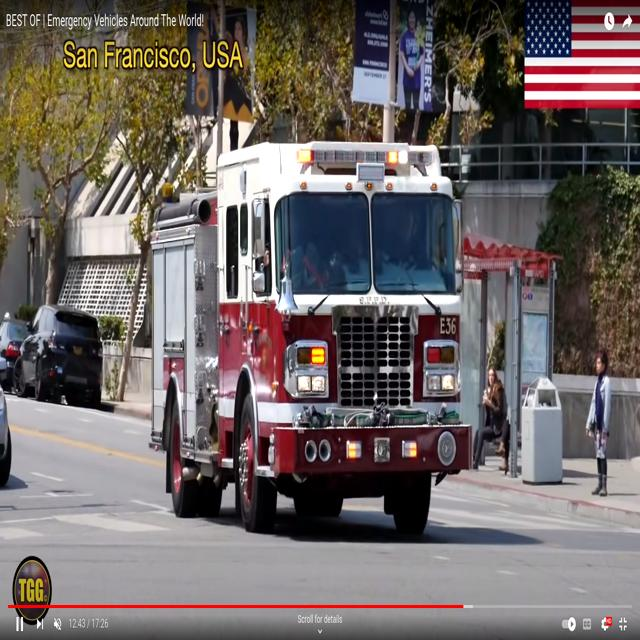emergency-vehicles: (133, 130, 492, 536)
